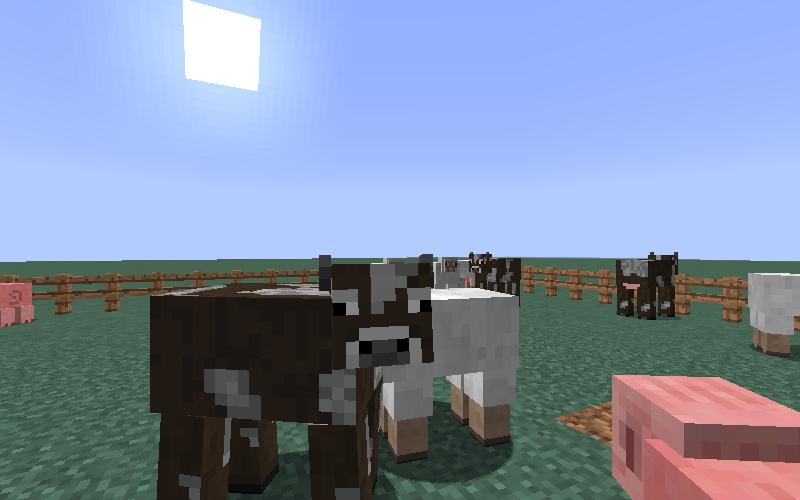cow: (138, 250, 441, 500), (610, 245, 686, 329), (469, 250, 526, 305)
pig: (607, 367, 800, 500), (2, 282, 34, 328)
sheep: (746, 272, 800, 355)
